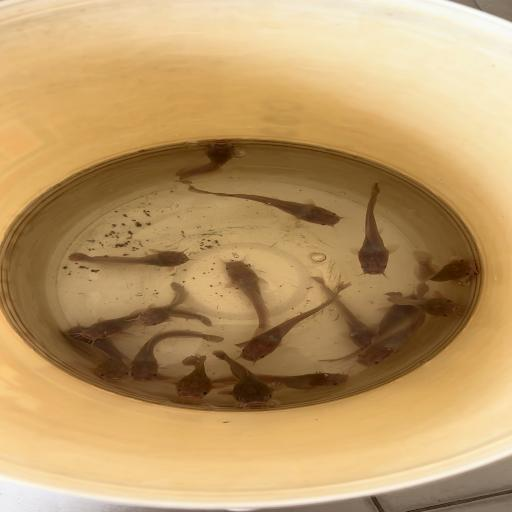lele: (240, 281, 353, 363), (317, 293, 422, 363), (184, 184, 345, 229), (357, 282, 430, 370), (129, 328, 224, 383), (310, 276, 374, 350), (221, 260, 274, 348), (81, 307, 214, 342), (211, 349, 286, 408), (353, 183, 398, 276), (56, 330, 132, 382), (174, 140, 240, 187), (211, 371, 350, 390), (67, 248, 191, 269), (134, 282, 190, 328), (385, 290, 466, 321), (63, 324, 131, 360), (410, 250, 477, 286), (176, 354, 214, 399)
